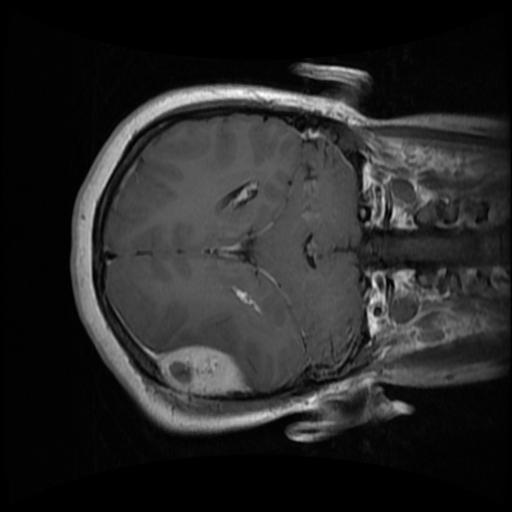meningioma: (156, 346, 249, 397)
